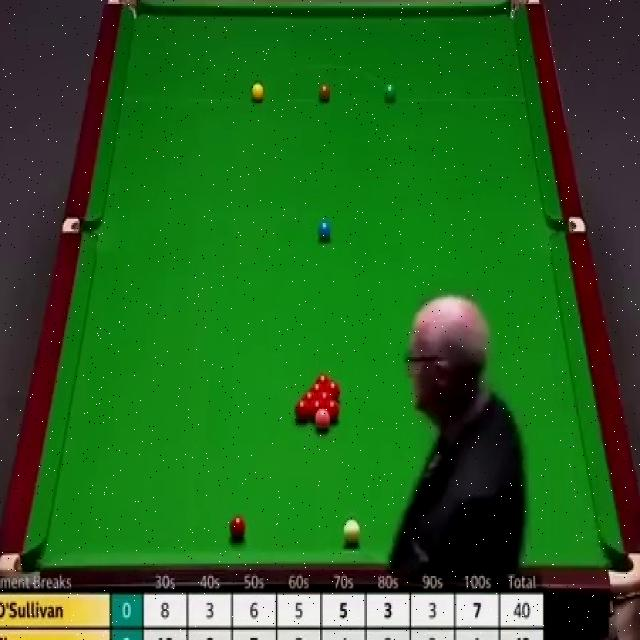blue-ball: (318, 220, 332, 244)
brown-ball: (318, 85, 332, 102)
green-ball: (384, 81, 399, 105)
pink-ball: (315, 408, 331, 434)
red-ball: (229, 515, 246, 540), (294, 398, 311, 422), (325, 400, 342, 422), (310, 397, 324, 420), (325, 380, 341, 399), (316, 392, 334, 407), (310, 382, 326, 395), (316, 373, 331, 386), (303, 392, 316, 402)
white-ball: (342, 518, 362, 550)
yellow-ball: (250, 82, 264, 103)
